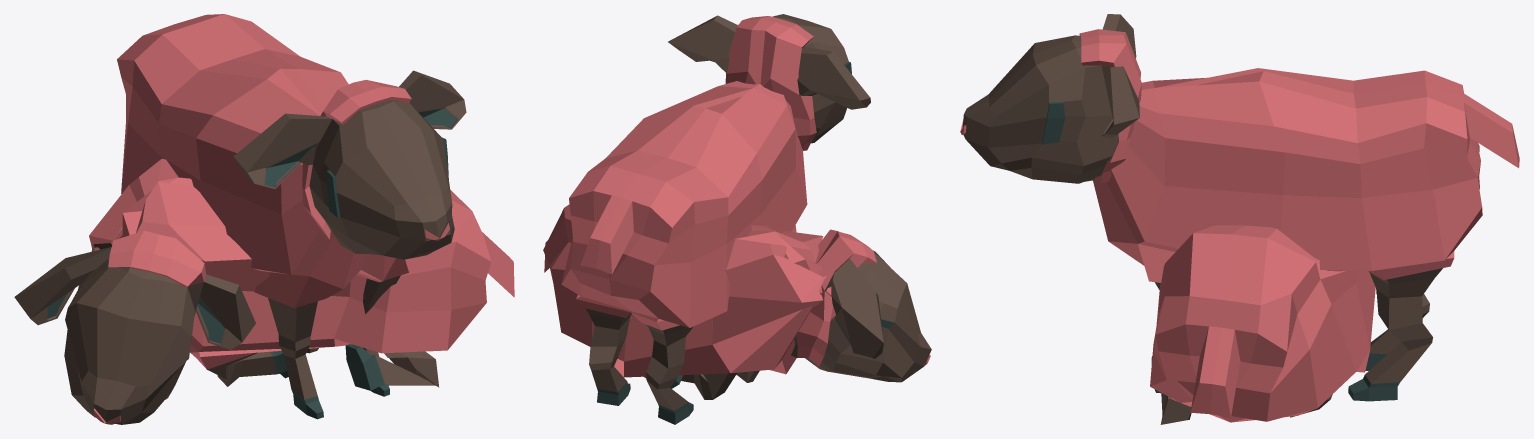
The model's file is Sheep.fbx.
The picture shows the model from 3 angles, left to right: view 1: azimuth 30°, elevation 25°; view 2: azimuth 150°, elevation 25°; view 3: azimuth 270°, elevation 25°; orthographic projection. The views are drawn at different scales.
Visible parts, largest first — view 1: Sheep_Stand, Sheep_Sleep; view 2: Sheep_Stand, Sheep_Sleep; view 3: Sheep_Stand, Sheep_Sleep.
Part boxes in pixels (x1,y1,x2,y2): Sheep_Stand: (117,14,466,419); Sheep_Sleep: (14,158,514,424); Sheep_Stand: (561,14,870,424); Sheep_Sleep: (543,204,931,399); Sheep_Stand: (960,14,1519,401); Sheep_Sleep: (1150,225,1375,424).
Size of the model in its own units: 340 by 261 by 379.
